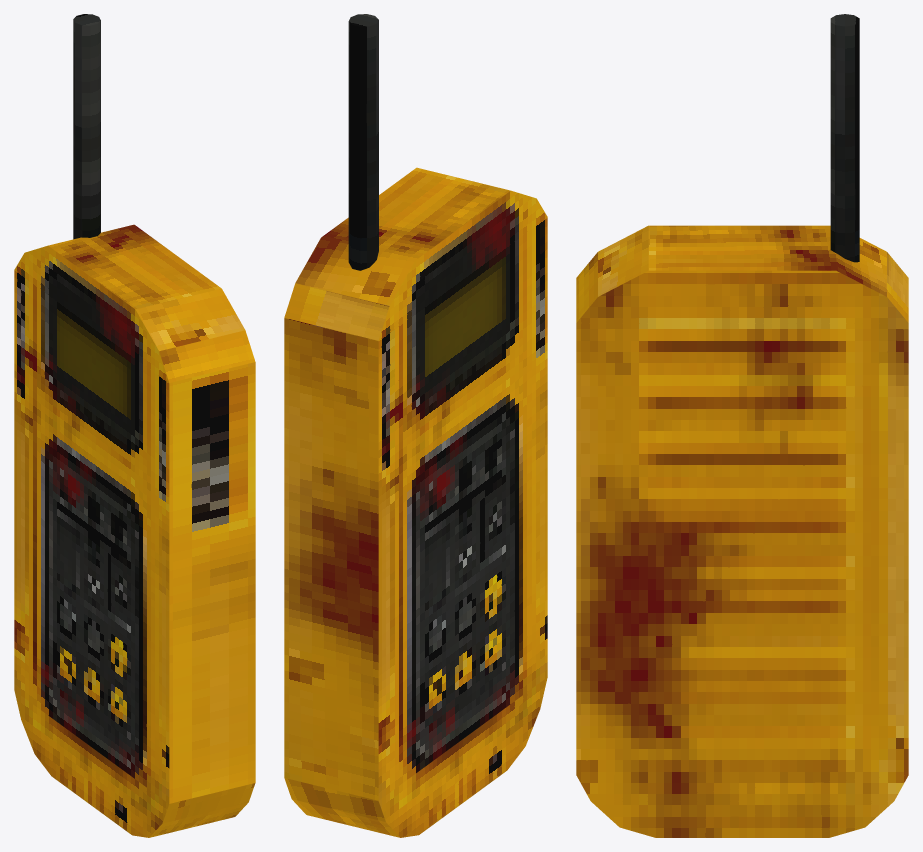
The model's file is walkie-talkie.glb.
3 renders of one model, left to right at view 1: azimuth 30°, elevation 25°; view 2: azimuth 150°, elevation 25°; view 3: azimuth 270°, elevation 25°, orthographic. The views are drawn at different scales.
Parts seen in each view (by area): view 1: cuboid_1, cylinder_0; view 2: cuboid_1, cylinder_0; view 3: cuboid_1, cylinder_0.
Boxes of the visible parts, bbox=[...] form: cuboid_1: bbox=[14, 224, 255, 837]; cylinder_0: bbox=[73, 14, 100, 239]; cuboid_1: bbox=[284, 167, 547, 837]; cylinder_0: bbox=[348, 14, 378, 270]; cuboid_1: bbox=[576, 225, 908, 837]; cylinder_0: bbox=[830, 14, 859, 262].
Bounding box in the file's own units: 0.2313 × 1.9 × 0.7188.
1 material, 1 textured.
